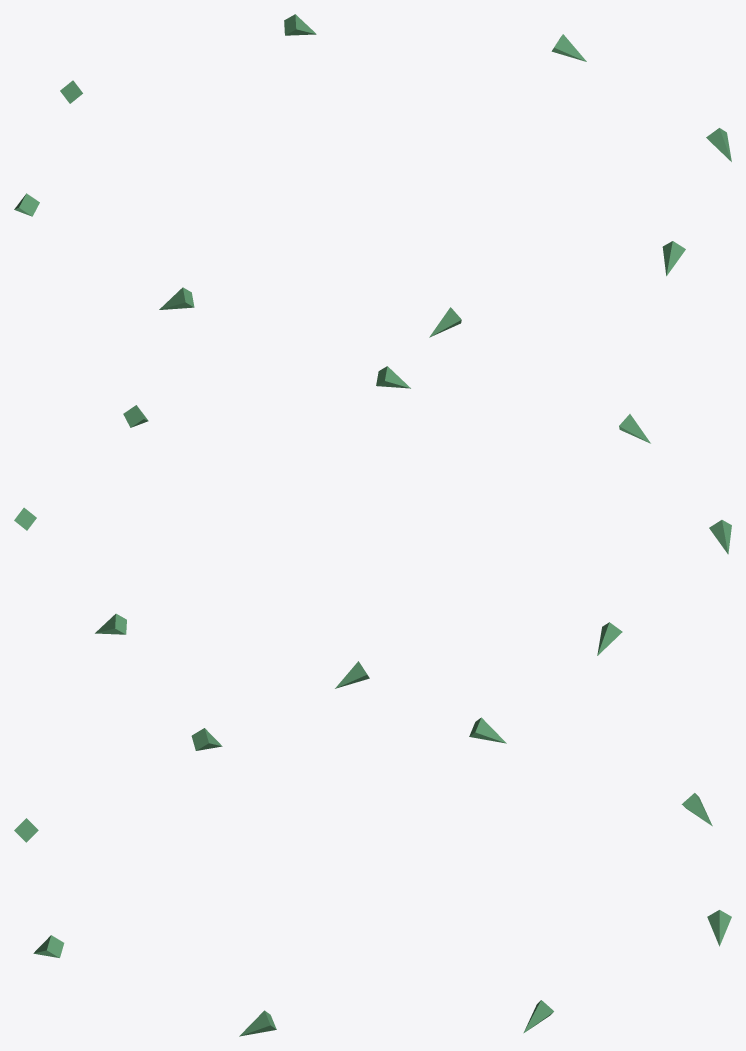
The model's file is small_plants.glb.
3 views of the same model, one above another, from view 1: azimuth 30°, elevation 25°; view 2: azimuth 150°, elevation 25°; view 3: azimuth 270°, elevation 25° (orthographic). The views are drawn at different scales.
Visible parts, largest first — view 1: geometry_0; view 2: geometry_0; view 3: geometry_0.
Part boxes in pixels (box(x1,y1,x2,y2)): geometry_0: box(14, 14, 731, 337); geometry_0: box(14, 366, 731, 688); geometry_0: box(14, 717, 731, 1036).
Bounding box in the file's own units: 1.78 × 0.0719 × 1.78.
